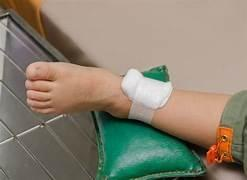Bandage: (121, 69, 172, 123)
